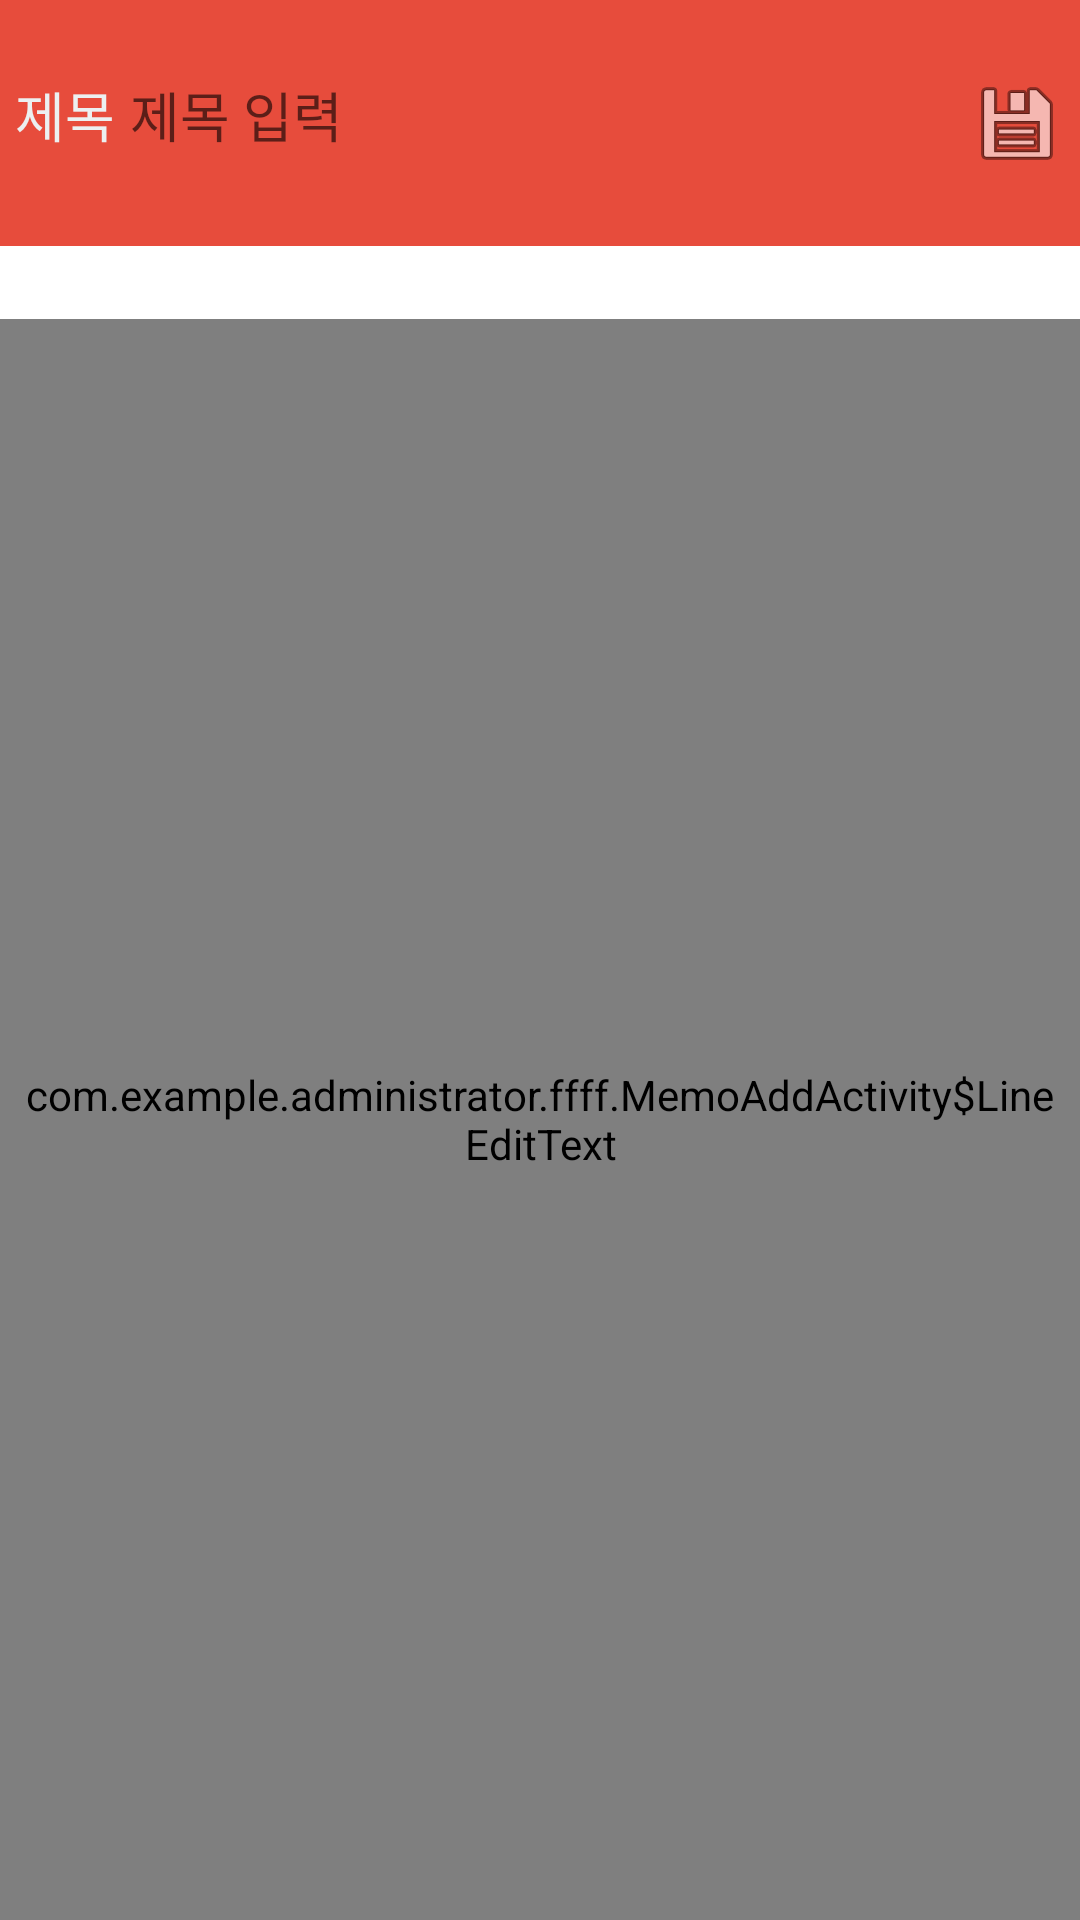

Point at icon controls on the screen. Image size 1080 x 1920, points as point (x, y).
save: point (1017, 123)
